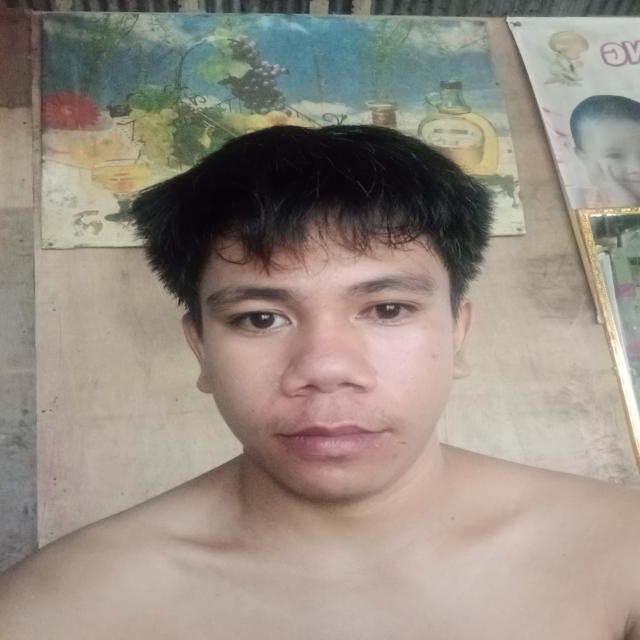Acne: (372, 442, 386, 450)
